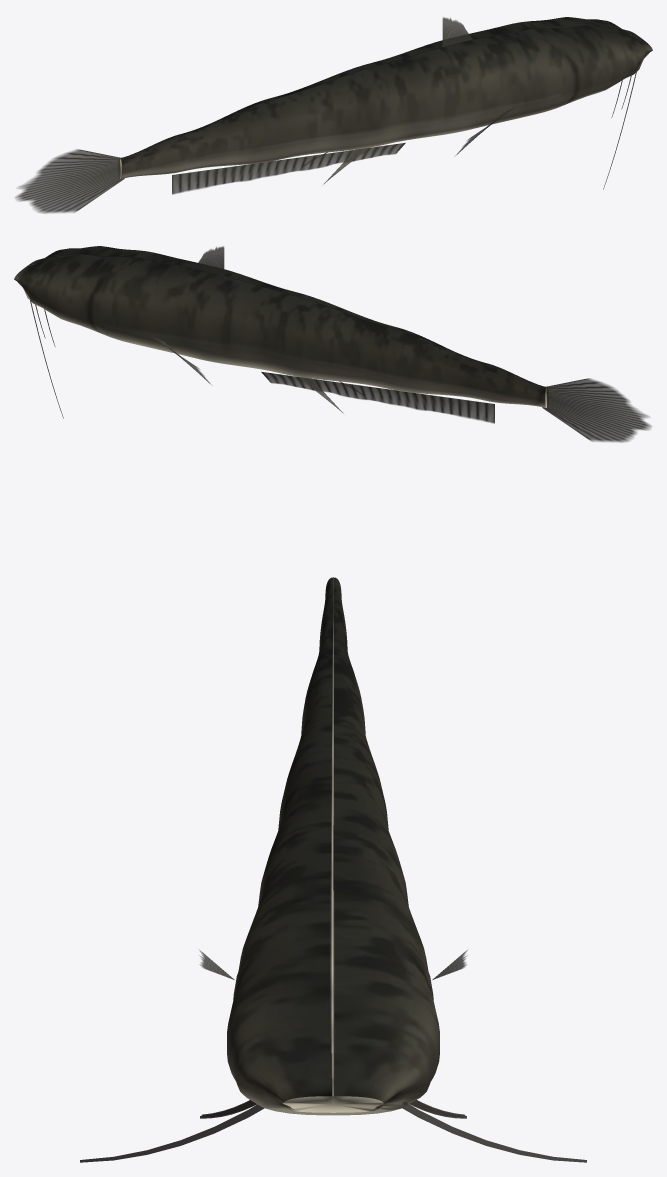
The model's file is laqqa.glb.
3 views of the same model, one above another, from view 1: azimuth 30°, elevation 25°; view 2: azimuth 150°, elevation 25°; view 3: azimuth 270°, elevation 25° (orthographic). The views are drawn at different scales.
Parts seen in each view (by area): view 1: laqqa; view 2: laqqa; view 3: laqqa.
Part boxes in pixels (<box>): laqqa: <box>15,17,652,213</box>; laqqa: <box>14,246,651,442</box>; laqqa: <box>80,577,586,1162</box>.
Size of the model in its own units: 1.04 by 0.2425 by 0.3631.
1 material, 1 textured.
